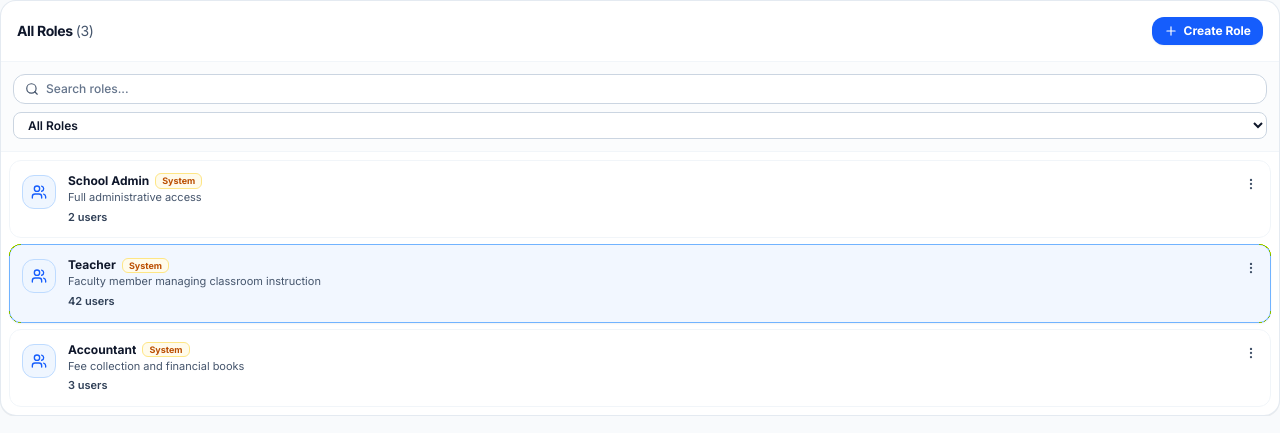
Test: Roles & Permissions Suite › should render RolesListPanel and allow searching and filtering roles
Expected: the heading "All Roles (3)" is shown, 17,21 -> 94,41
Expected: the heading "School Admin" is shown, 68,173 -> 149,189
Note: Filter via search
Type "Account" into the field with placeholder "Search roles..." at (640, 89), box 13,74 -> 1267,104
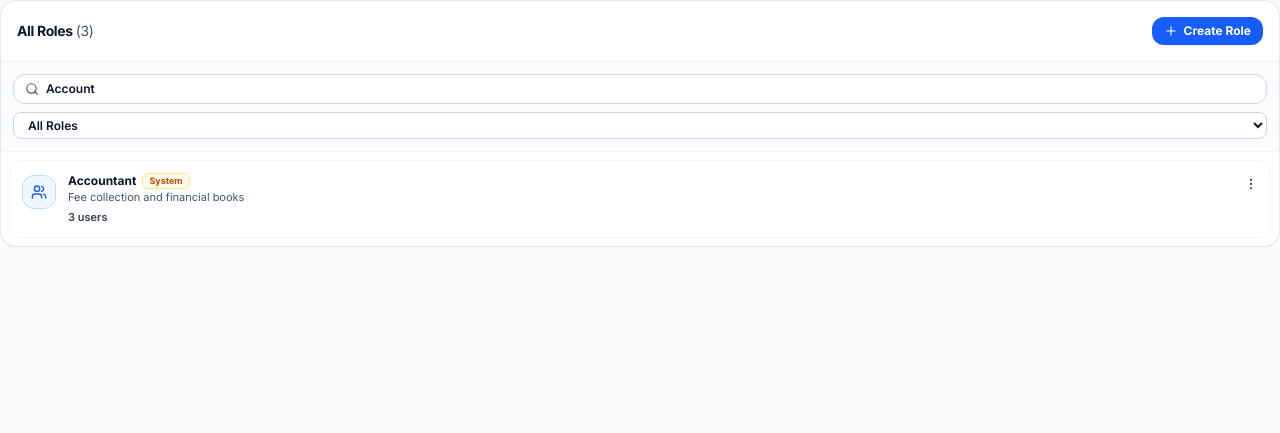
Expected: the heading "Accountant" is shown, 68,173 -> 136,189
Expected: the heading "School Admin" is gone
